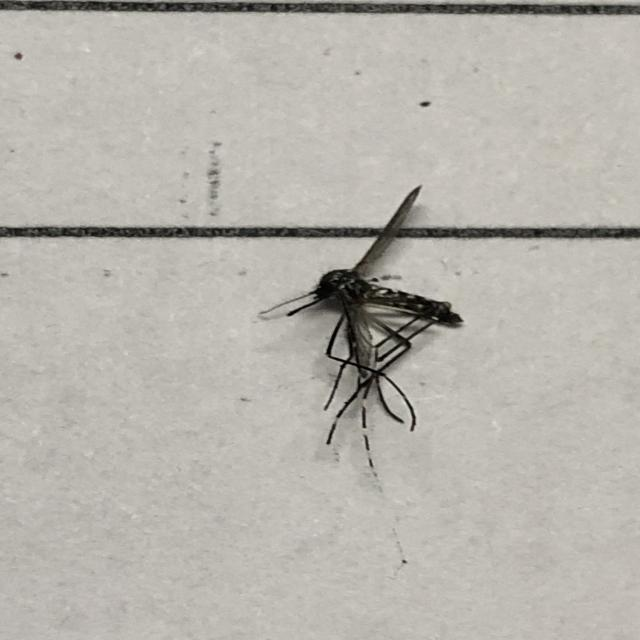albopictus: (255, 176, 468, 497)
